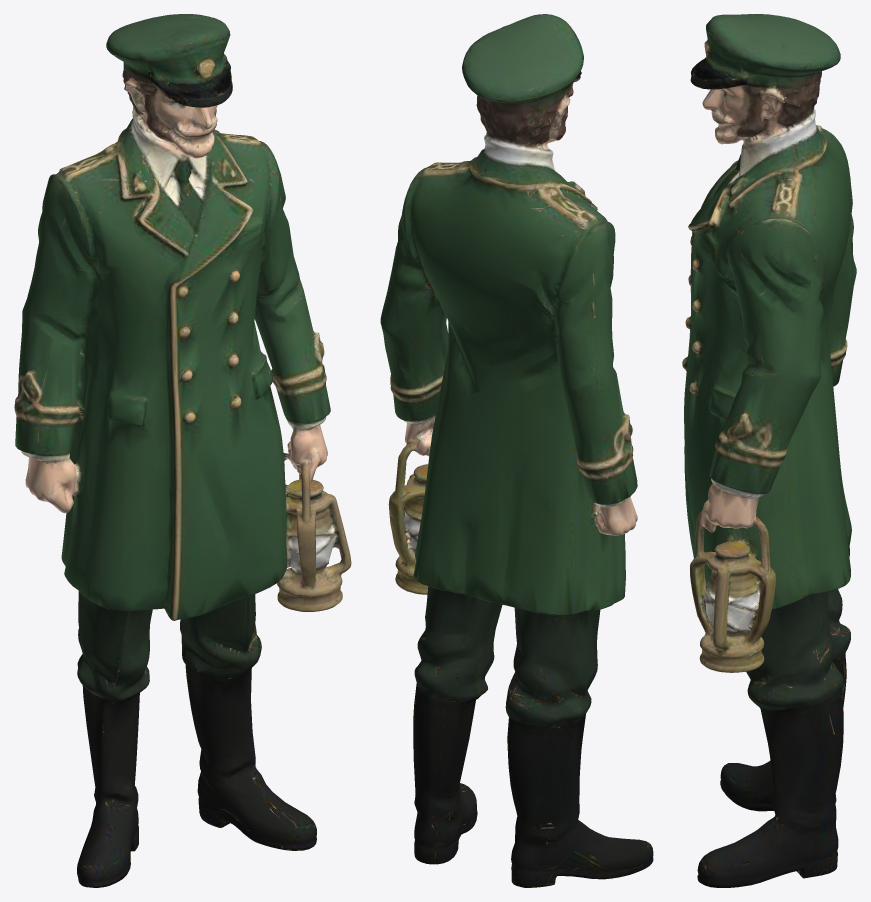
File: npc_pell.glb
The picture shows the model from 3 angles, left to right: view 1: azimuth 30°, elevation 25°; view 2: azimuth 150°, elevation 25°; view 3: azimuth 270°, elevation 25°; orthographic projection. The views are drawn at different scales.
Parts seen in each view (by area): view 1: Mesh_0; view 2: Mesh_0; view 3: Mesh_0.
Part boxes in pixels (box(x1,y1,x2,y2)): Mesh_0: box(14, 14, 351, 887); Mesh_0: box(380, 14, 653, 887); Mesh_0: box(682, 14, 856, 887).
Size of the model in its own units: 0.6784 by 1.91 by 0.3689.
Materials: 1 (1 with a texture image).
